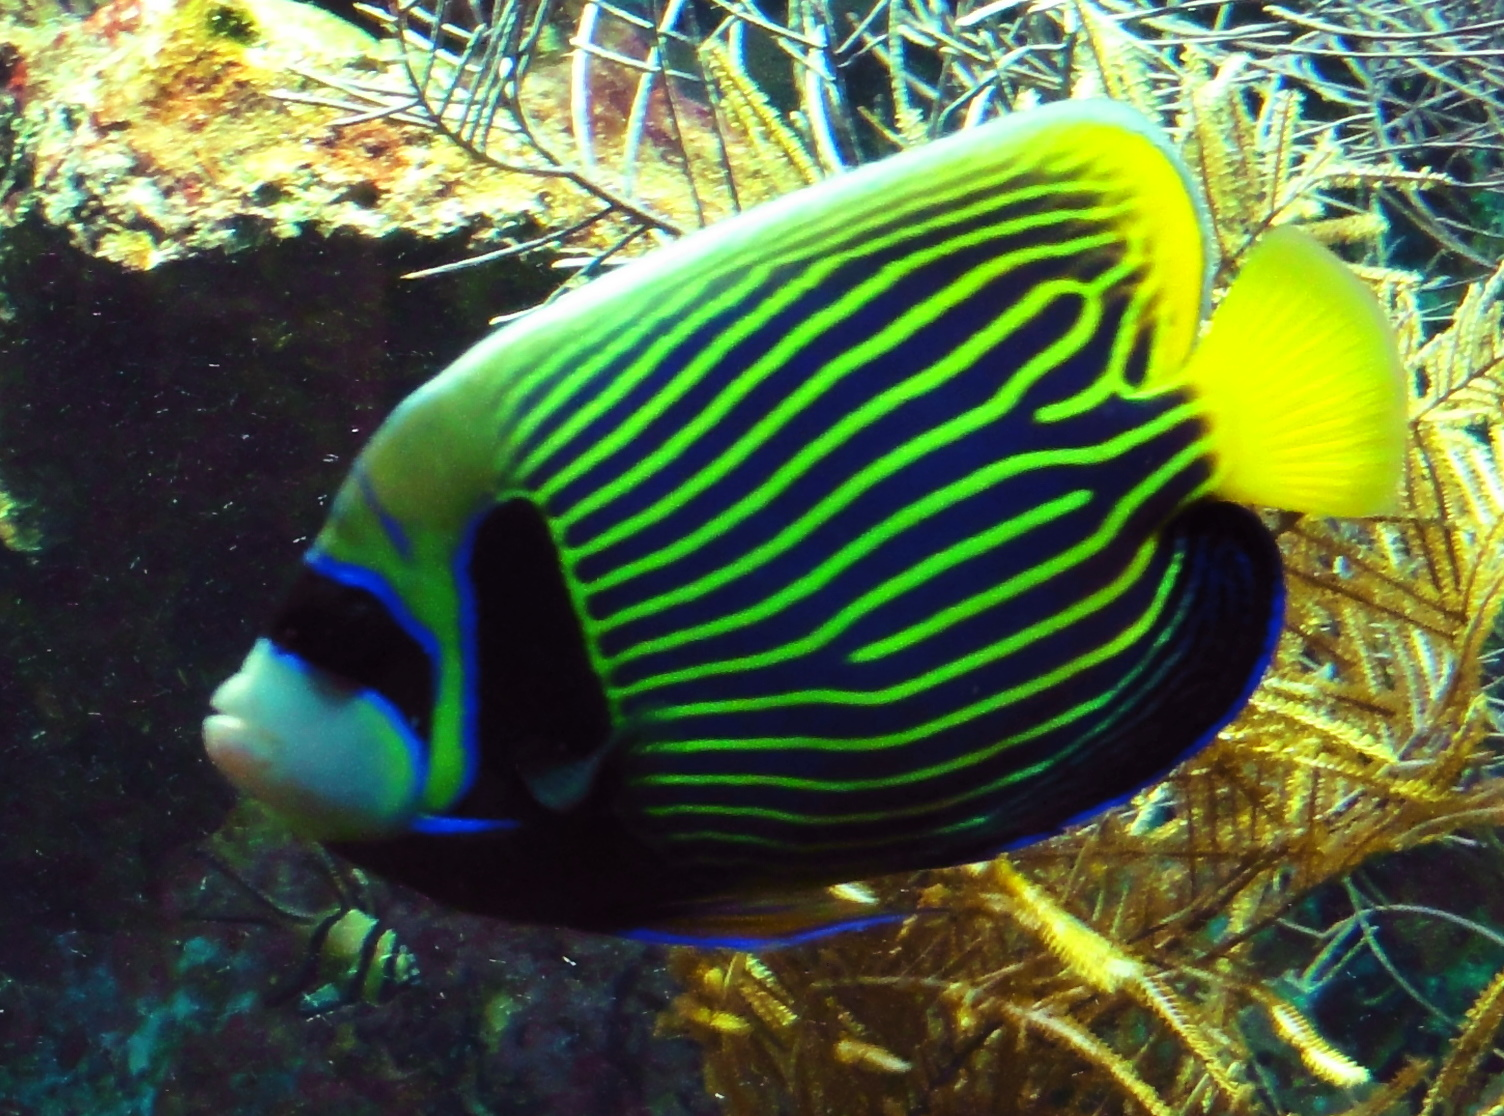Pomacanthus_imperator: (183, 98, 1423, 944)
